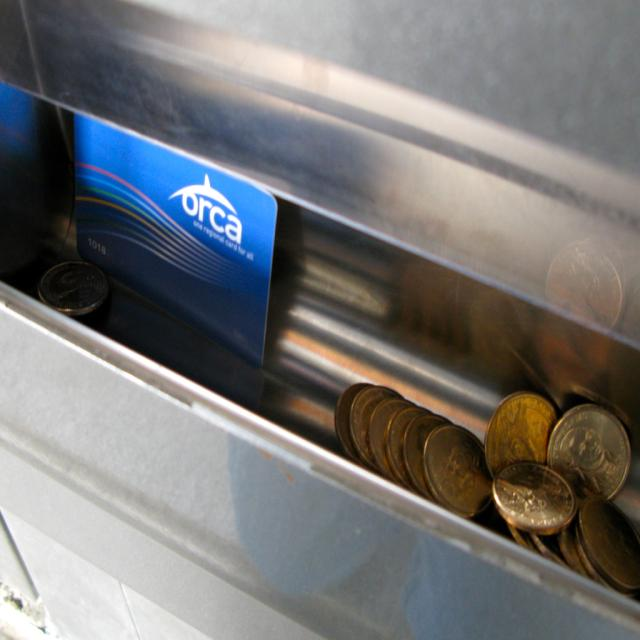Coin: (332, 233, 640, 594), (33, 255, 110, 322)
